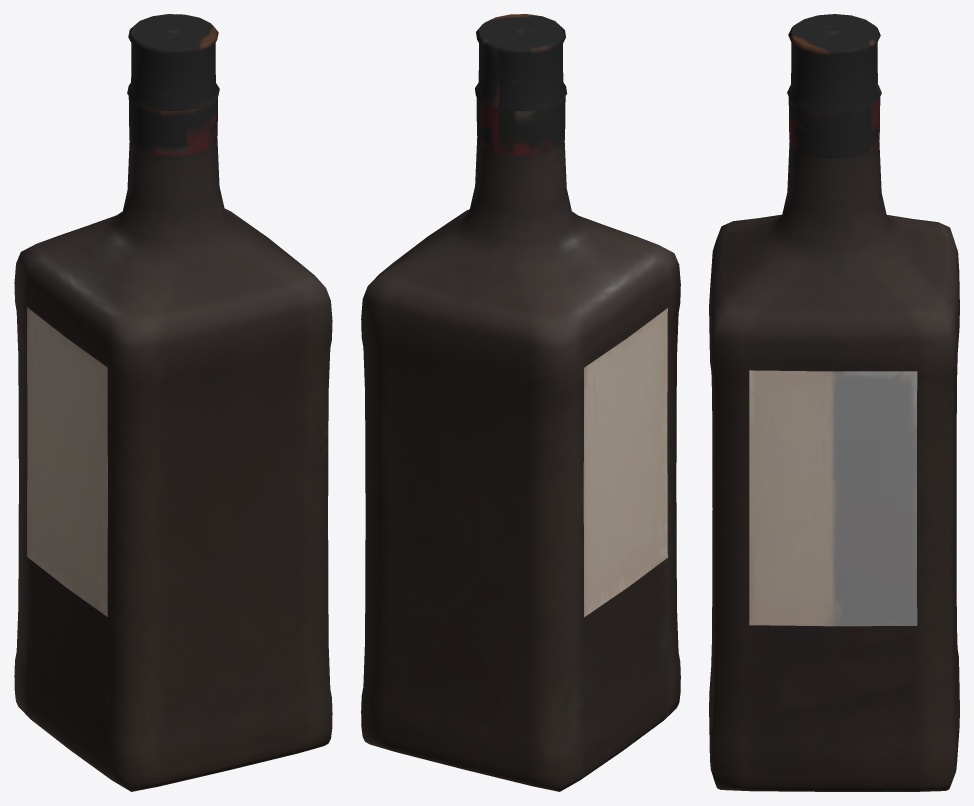
The model's file is SM_Bottles_06.fbx.
3 renders of one model, left to right at view 1: azimuth 30°, elevation 25°; view 2: azimuth 150°, elevation 25°; view 3: azimuth 270°, elevation 25°, orthographic. The views are drawn at different scales.
Parts seen in each view (by area): view 1: SM_Bottles_06_LOD0; view 2: SM_Bottles_06_LOD0; view 3: SM_Bottles_06_LOD0.
Boxes of the visible parts, left/top/right/bottom form: SM_Bottles_06_LOD0: left=14, top=14, right=332, bottom=791; SM_Bottles_06_LOD0: left=361, top=14, right=680, bottom=791; SM_Bottles_06_LOD0: left=709, top=14, right=959, bottom=791.
Bounding box in the file's own units: 8.05 × 8 × 25.14.
2 materials, 2 textured.
